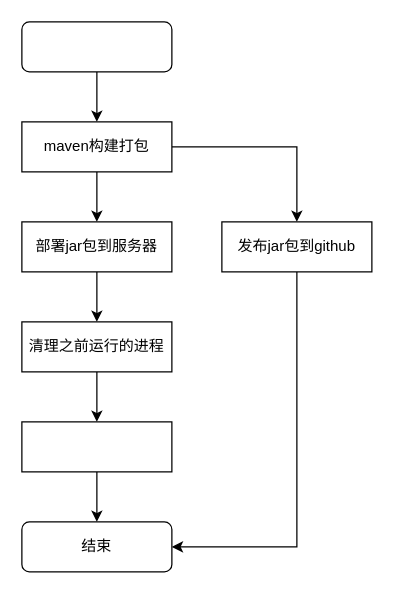
The diagram is 394 pixels wide and 594 high, and some of its shapes have lost their labels. The shapes that lost their labels are listed below. From the top down, each one's centre as x and y in pixels, then its label:
At point 96,46: "提交commit到 main分支/pr".
At point 96,446: "更新重启服务".
